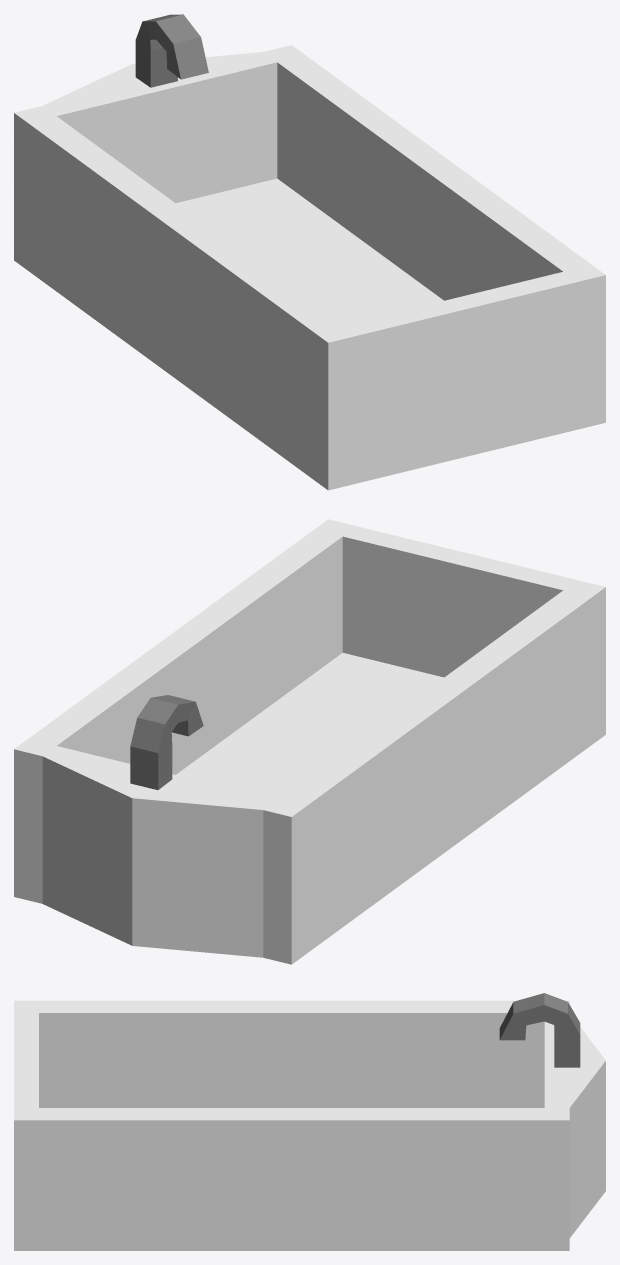
The model's file is kylpyallas.FBX.
3 renders of one model, top to bottom at view 1: azimuth 30°, elevation 25°; view 2: azimuth 150°, elevation 25°; view 3: azimuth 270°, elevation 25°, orthographic. The views are drawn at different scales.
Parts seen in each view (by area): view 1: kylpyallas; view 2: kylpyallas; view 3: kylpyallas.
Boxes of the visible parts, x1,y1,x2,y2 form: kylpyallas: [14, 14, 605, 490]; kylpyallas: [14, 519, 605, 964]; kylpyallas: [14, 993, 605, 1250].
Size of the model in its own units: 135 by 101 by 281.
